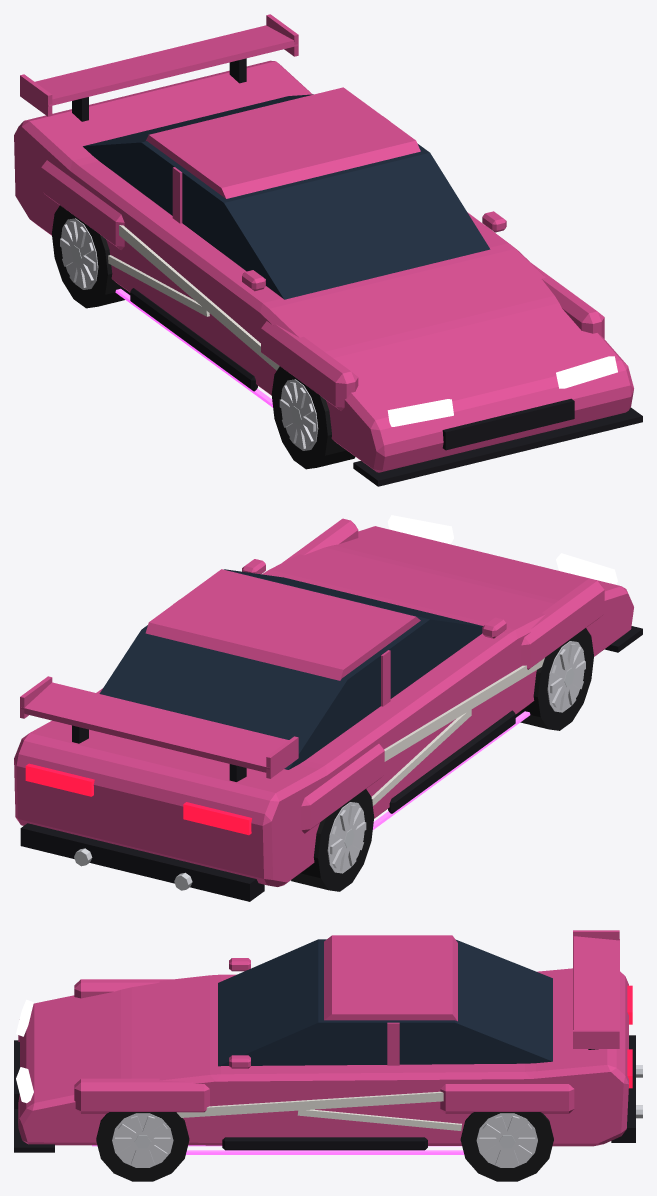
File: car_tuner.glb
3 views of the same model, one above another, from view 1: azimuth 30°, elevation 25°; view 2: azimuth 150°, elevation 25°; view 3: azimuth 270°, elevation 25° (orthographic). The views are drawn at different scales.
Parts seen in each view (by area): view 1: car_tuner, Wheel_FR, Wheel_RR; view 2: car_tuner, Wheel_RR, Wheel_FR; view 3: car_tuner, Wheel_RL, Wheel_FL.
Part boxes in pixels (x1,y1,x2,y2): car_tuner: (14,14,642,486); Wheel_FR: (271,366,355,469); Wheel_RR: (51,205,130,308); car_tuner: (14,515,642,901); Wheel_RR: (291,789,374,891); Wheel_FR: (515,628,593,730); car_tuner: (14,930,642,1154); Wheel_RL: (460,1112,553,1181); Wheel_FL: (96,1112,189,1181).
Bounding box in the file's own units: 1.91 × 1.23 × 4.59.
